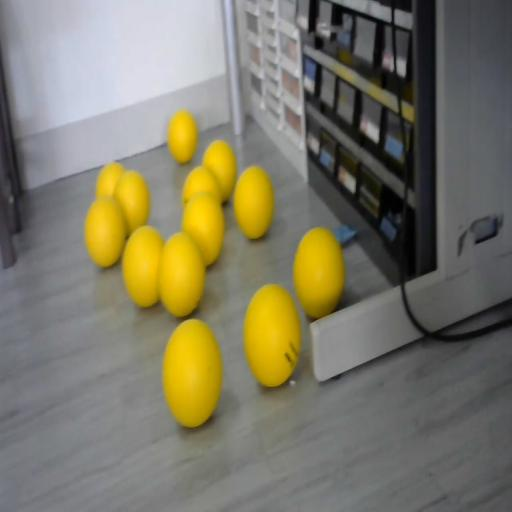FUEL: (162, 319, 221, 426), (242, 282, 302, 386), (292, 226, 344, 319), (180, 190, 226, 267), (121, 225, 164, 307), (84, 195, 127, 268), (233, 166, 275, 239), (202, 139, 238, 202), (168, 110, 198, 164), (96, 161, 125, 200)
